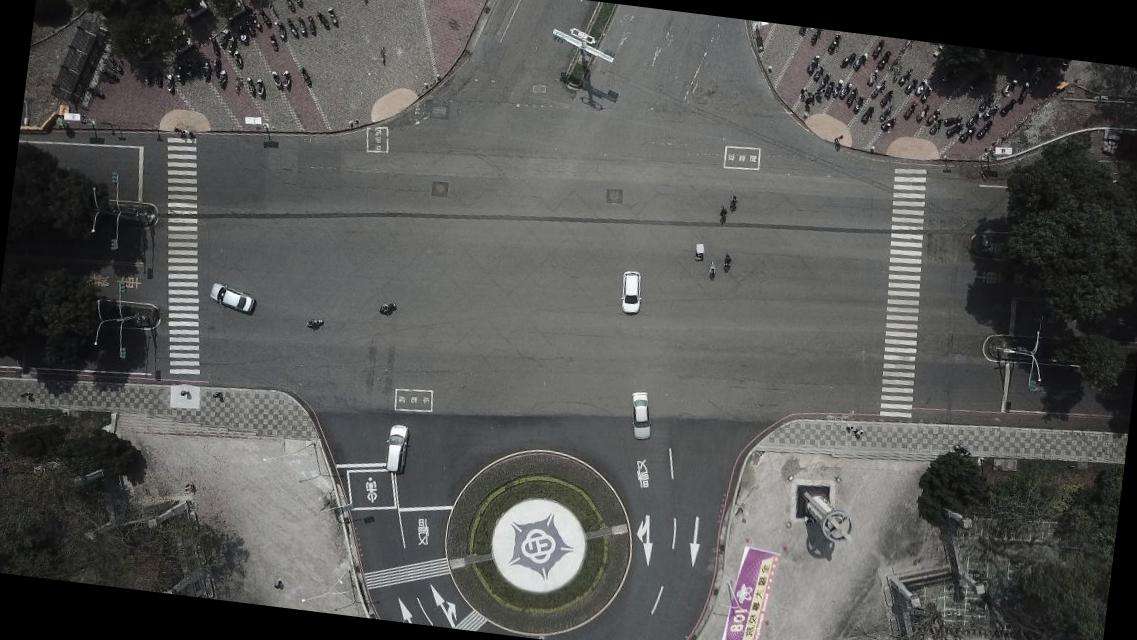vehicle: (625, 390, 655, 441), (206, 283, 256, 313), (382, 424, 409, 474), (616, 268, 643, 315)
